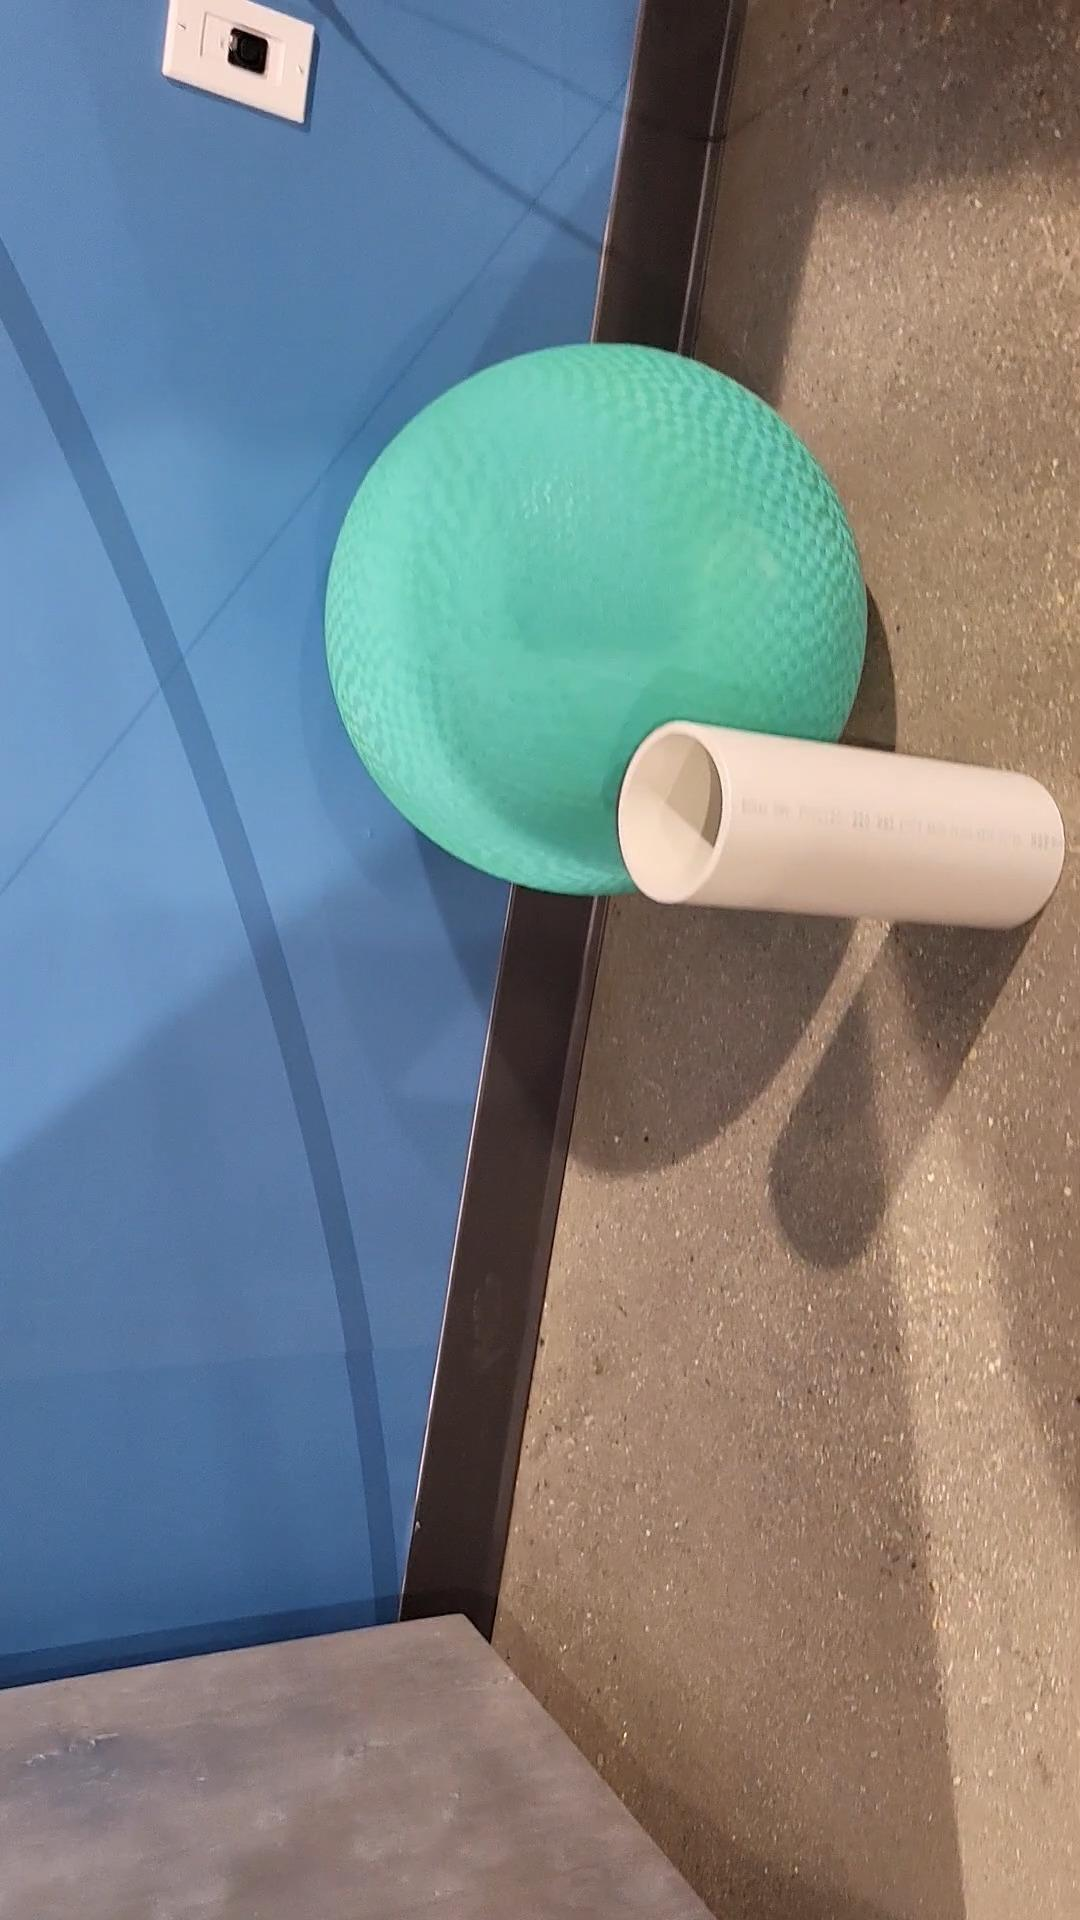algae: (330, 345, 866, 895)
coral: (621, 720, 1064, 934)
